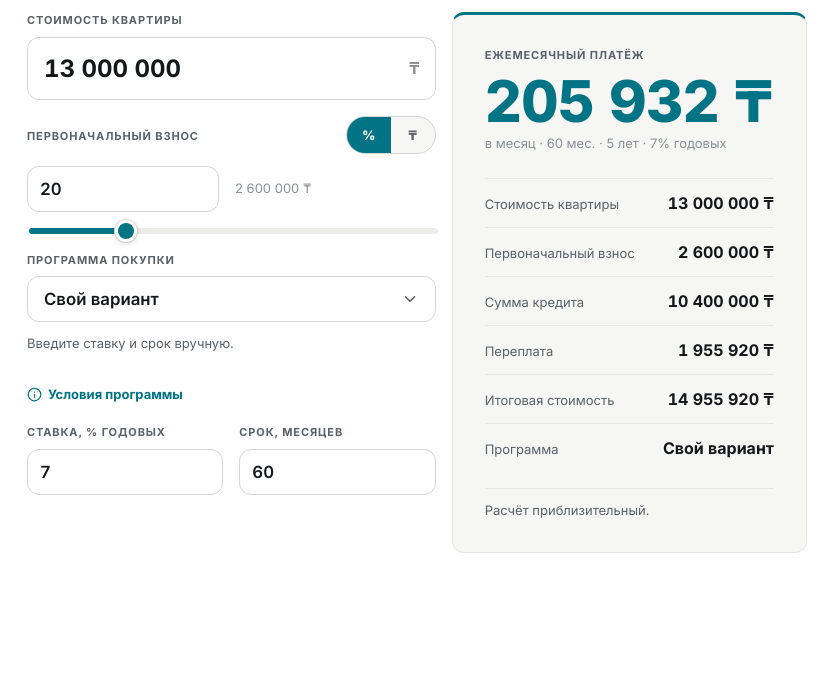
Test: Calculator › shows the program presets
What coordinates should you click on to do the following:
click the button named "программа покупки"
I would click on:
 (101, 299)
Its box is [27,276,436,322].
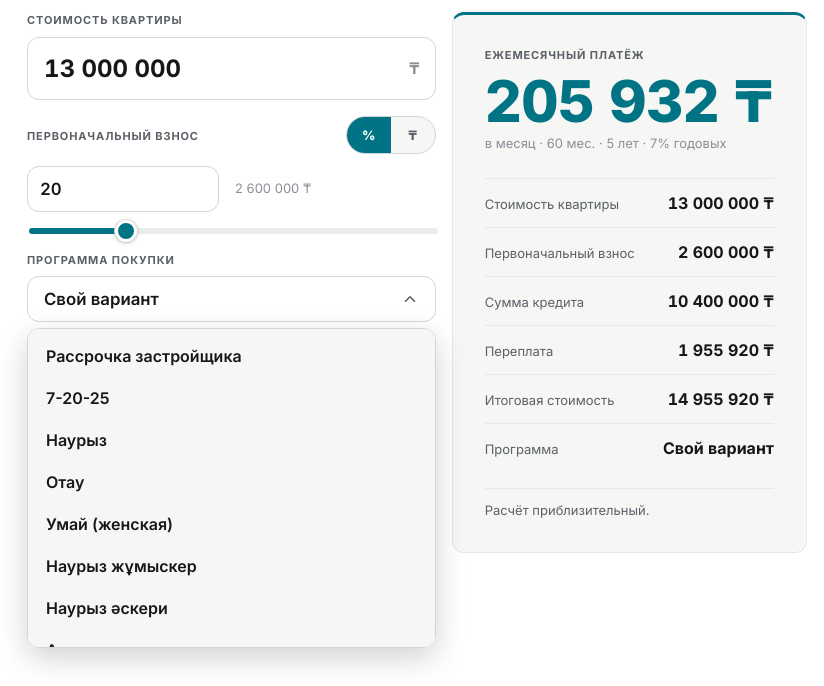
Check: the option "Рассрочка застройщика" is shown, box [46,346,242,366]
Check: the option "7-20-25" is shown, box [46,388,110,408]
